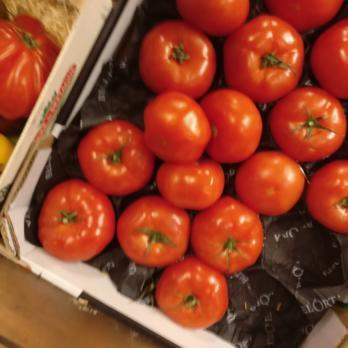Tomato: (34, 178, 118, 263), (112, 190, 194, 271), (226, 16, 305, 100), (132, 25, 217, 97), (78, 116, 153, 195), (269, 84, 344, 161), (192, 196, 260, 273), (142, 89, 211, 161), (159, 262, 229, 326), (211, 96, 269, 169), (298, 171, 348, 227)
